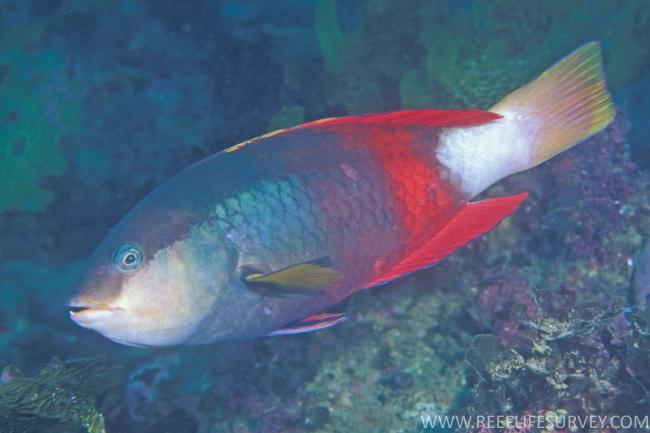fish: (67, 40, 618, 347)
